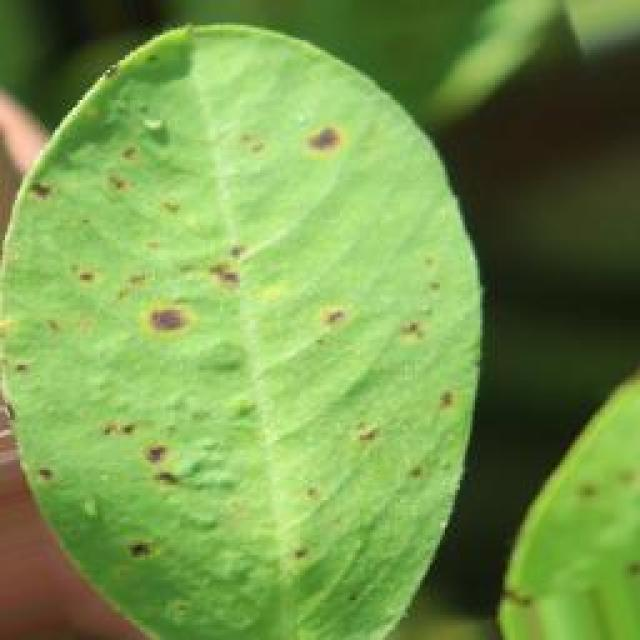Sigatoka: (196, 220, 280, 314), (283, 110, 373, 185), (24, 162, 85, 231), (66, 259, 132, 322), (322, 308, 396, 364), (96, 170, 167, 216), (110, 398, 162, 458), (106, 547, 204, 578), (24, 439, 74, 498), (108, 135, 165, 186), (230, 123, 279, 178), (134, 301, 187, 349), (350, 424, 397, 474), (400, 317, 442, 372), (294, 469, 332, 521), (144, 188, 187, 228), (431, 392, 471, 428), (148, 460, 185, 498), (280, 534, 314, 572), (140, 40, 174, 72)
